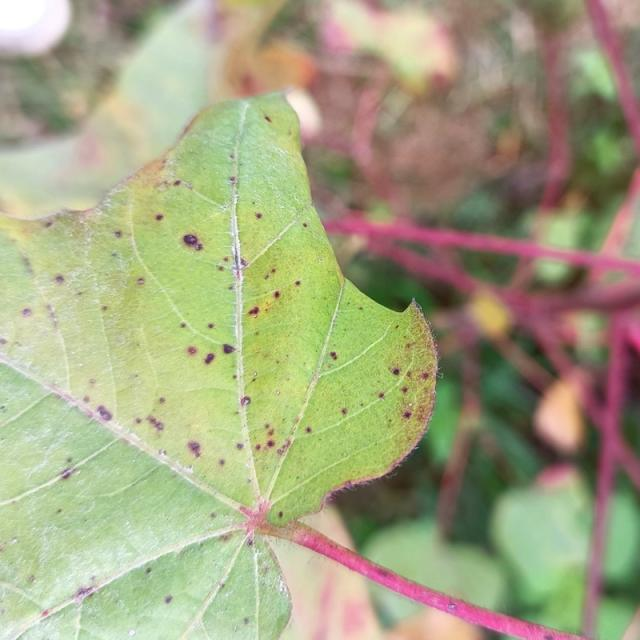Bacterial_Blight: (246, 291, 284, 319), (178, 229, 208, 254), (146, 415, 164, 433), (96, 404, 113, 421), (187, 440, 202, 457), (60, 467, 75, 480), (276, 443, 290, 456), (76, 586, 91, 597), (274, 510, 286, 522), (223, 343, 236, 354), (204, 352, 215, 364), (247, 306, 259, 317), (220, 532, 233, 542), (21, 308, 33, 317), (241, 396, 251, 405), (187, 346, 197, 355), (164, 594, 173, 604), (54, 275, 65, 283), (240, 257, 248, 267), (155, 213, 164, 221), (329, 351, 337, 360), (402, 410, 411, 418), (113, 230, 122, 238), (229, 175, 237, 184), (266, 440, 275, 448), (392, 368, 400, 376), (137, 277, 145, 285), (264, 115, 272, 123), (236, 442, 244, 450), (246, 538, 253, 547), (273, 291, 281, 298), (255, 212, 263, 219), (157, 397, 165, 404), (173, 180, 181, 187), (421, 372, 429, 379), (341, 407, 348, 414), (401, 386, 408, 393), (305, 426, 312, 433), (378, 392, 385, 399), (66, 456, 73, 463), (145, 567, 152, 574), (28, 575, 35, 582), (207, 323, 215, 329), (294, 280, 301, 286), (101, 305, 108, 311), (217, 265, 224, 271), (56, 508, 62, 515), (180, 322, 186, 328), (302, 222, 308, 228), (210, 513, 216, 519), (247, 478, 253, 484)
Cotton: (0, 93, 436, 639)
